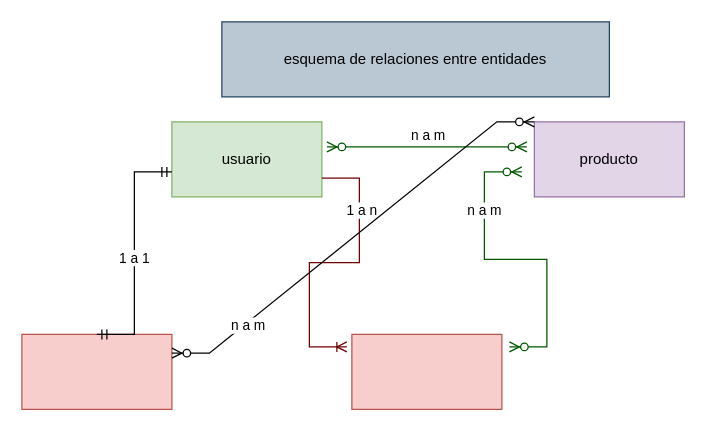
The diagram is 706 pixels wide and 431 high, and some of its shapes have lost their labels. The centre of each missing label's shape, as x and y in pixels:
"carrito de compras" goes at (96,371).
"transaccion" goes at (426,371).
